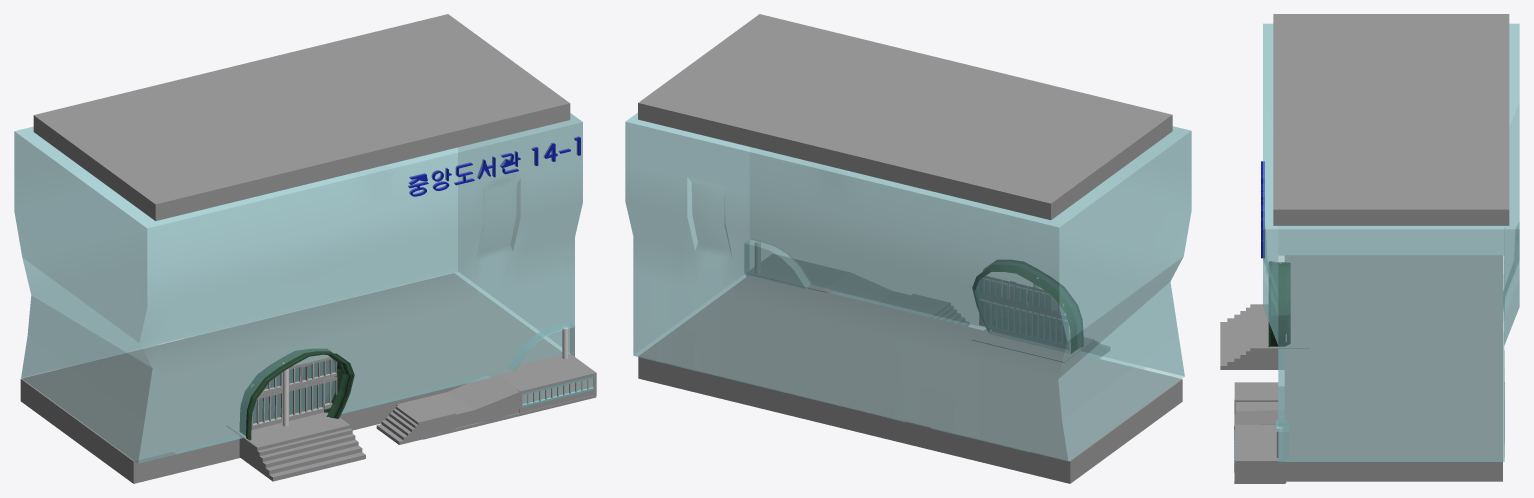
File: 중앙도서관 모델링.fbx
3 renders of one model, left to right at view 1: azimuth 30°, elevation 25°; view 2: azimuth 150°, elevation 25°; view 3: azimuth 270°, elevation 25°, orthographic. The views are drawn at different scales.
Visible parts, largest first — view 1: polySurface3, pCube2, pCube7, pasted__pasted__pCube5, pasted__pasted__pasted__pasted__pPlane939, pCube3, pasted__pasted__pCube6, pCube4, typeMesh3, pasted__pasted__pasted__pasted__pPlane956, pasted__pasted__pasted__pasted__pPlane914, pCube5 (+1 smaller); view 2: polySurface3, pCube7, pCube2, pasted__pasted__pasted__pasted__pPlane939, pCube3, pasted__pasted__pCube5, pCube4, pasted__pasted__pCube6; view 3: polySurface3, pCube2, pCube7, pasted__pasted__pCube5, pCube3, pasted__pasted__pCube6, pCube4, pCube5, typeMesh3.
Boxes of the visible parts, x1=… form: polySurface3: x1=14, y1=113, x2=582, y2=463; pCube2: x1=33, y1=14, x2=570, y2=220; pCube7: x1=20, y1=273, x2=562, y2=483; pasted__pasted__pCube5: x1=227, y1=412, x2=365, y2=481; pasted__pasted__pasted__pasted__pPlane939: x1=251, y1=357, x2=337, y2=429; pCube3: x1=495, y1=353, x2=596, y2=412; pasted__pasted__pCube6: x1=376, y1=397, x2=455, y2=444; pCube4: x1=448, y1=372, x2=520, y2=426; typeMesh3: x1=408, y1=136, x2=580, y2=196; pasted__pasted__pasted__pasted__pPlane956: x1=253, y1=359, x2=334, y2=422; pasted__pasted__pasted__pasted__pPlane914: x1=522, y1=376, x2=594, y2=407; pCube5: x1=396, y1=392, x2=476, y2=427; polySurface3: x1=625, y1=112, x2=1191, y2=461; pCube7: x1=638, y1=275, x2=1182, y2=483; pCube2: x1=638, y1=14, x2=1172, y2=220; pasted__pasted__pasted__pasted__pPlane939: x1=979, y1=276, x2=1068, y2=349; pCube3: x1=746, y1=254, x2=848, y2=291; pasted__pasted__pCube5: x1=972, y1=329, x2=1109, y2=362; pCube4: x1=822, y1=272, x2=891, y2=303; pasted__pasted__pCube6: x1=894, y1=294, x2=969, y2=326; polySurface3: x1=1263, y1=23, x2=1519, y2=461; pCube2: x1=1273, y1=14, x2=1509, y2=225; pCube7: x1=1284, y1=255, x2=1502, y2=481; pasted__pasted__pCube5: x1=1220, y1=304, x2=1309, y2=369; pCube3: x1=1235, y1=424, x2=1286, y2=482; pasted__pasted__pCube6: x1=1234, y1=382, x2=1278, y2=414; pCube4: x1=1234, y1=410, x2=1284, y2=439; pCube5: x1=1235, y1=386, x2=1284, y2=411; typeMesh3: x1=1261, y1=161, x2=1264, y2=258.
Size of the model in its own units: 5.71 by 3.5 by 3.5.
